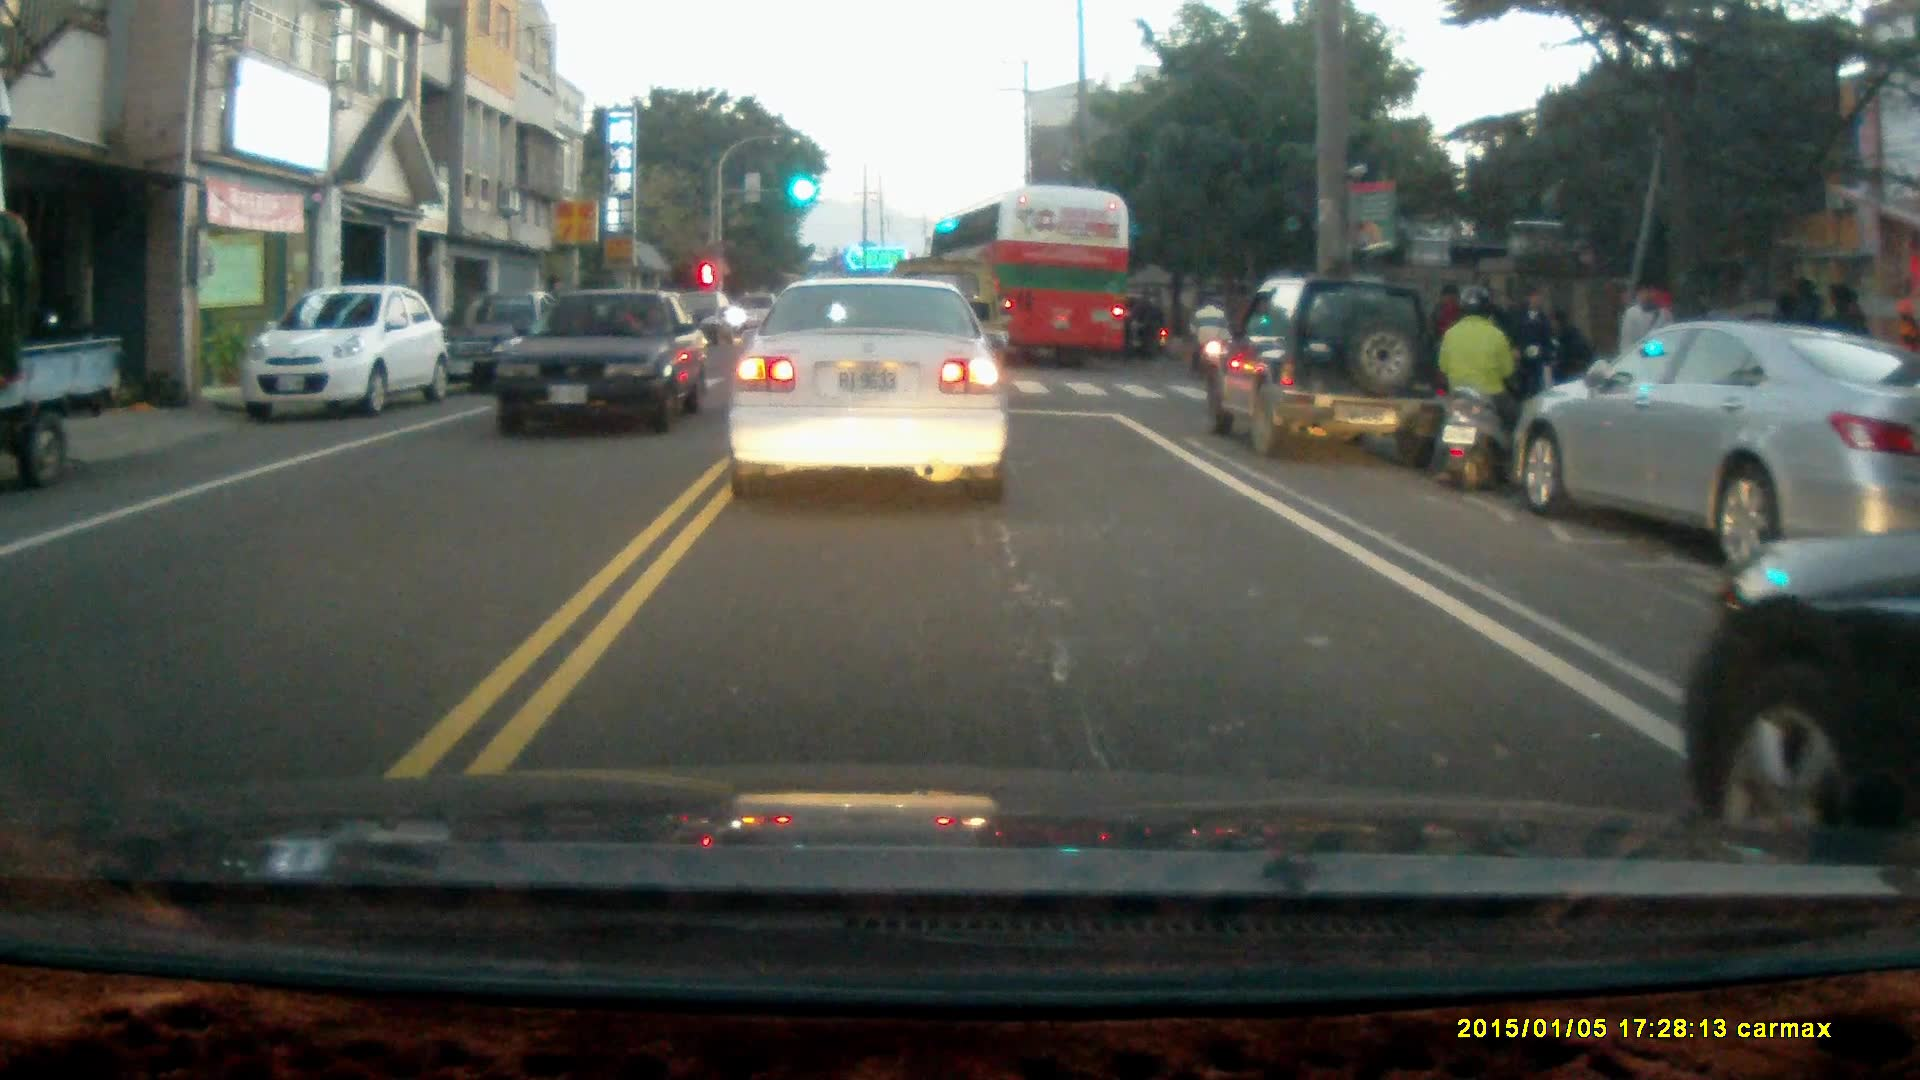pedestrian: (1609, 276, 1676, 420), (1508, 283, 1559, 426)
rider: (1432, 283, 1525, 496), (1112, 293, 1170, 363), (1186, 290, 1227, 374)
vehicle: (1516, 323, 1920, 578), (723, 270, 1013, 506), (1695, 538, 1920, 836), (1201, 275, 1453, 463), (930, 188, 1137, 375), (494, 286, 711, 440), (1, 241, 125, 486), (240, 285, 444, 418), (445, 288, 573, 392)
